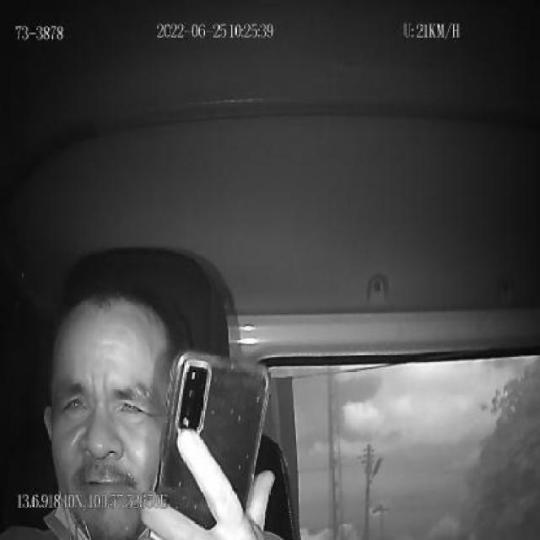phone: (153, 349, 271, 540)
